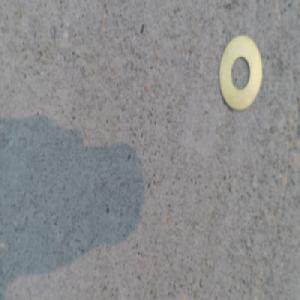Washer: (214, 41, 260, 115)
